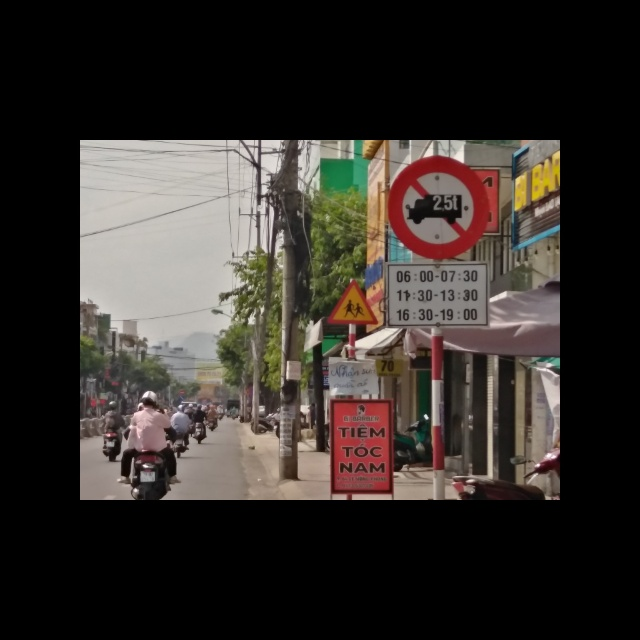Cấm xe tải: (384, 154, 491, 257)
Trẻ em ngang qua: (328, 279, 380, 325)
